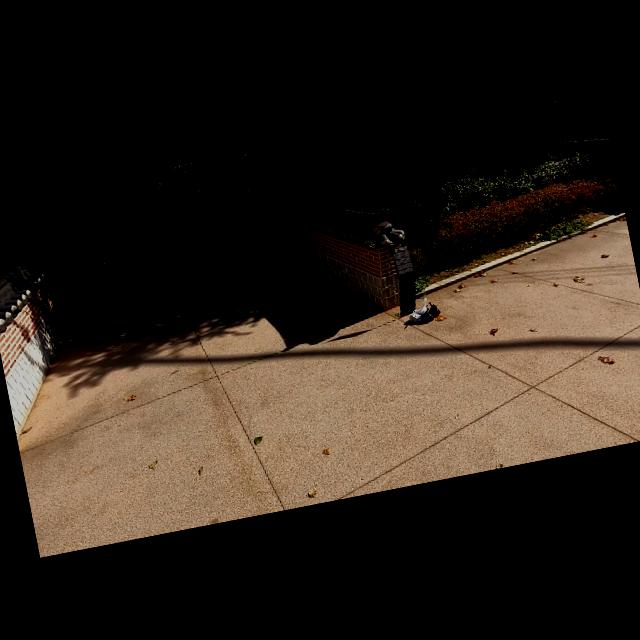trash: (426, 300, 442, 318), (413, 296, 429, 314), (420, 304, 434, 324), (409, 308, 423, 324)
